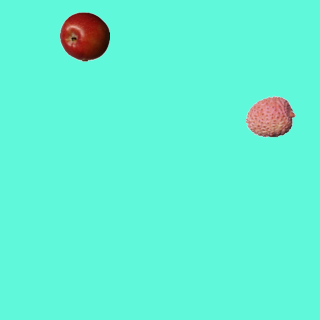Apple Braeburn: (59, 11, 109, 61)
Lychee: (245, 91, 295, 141)
